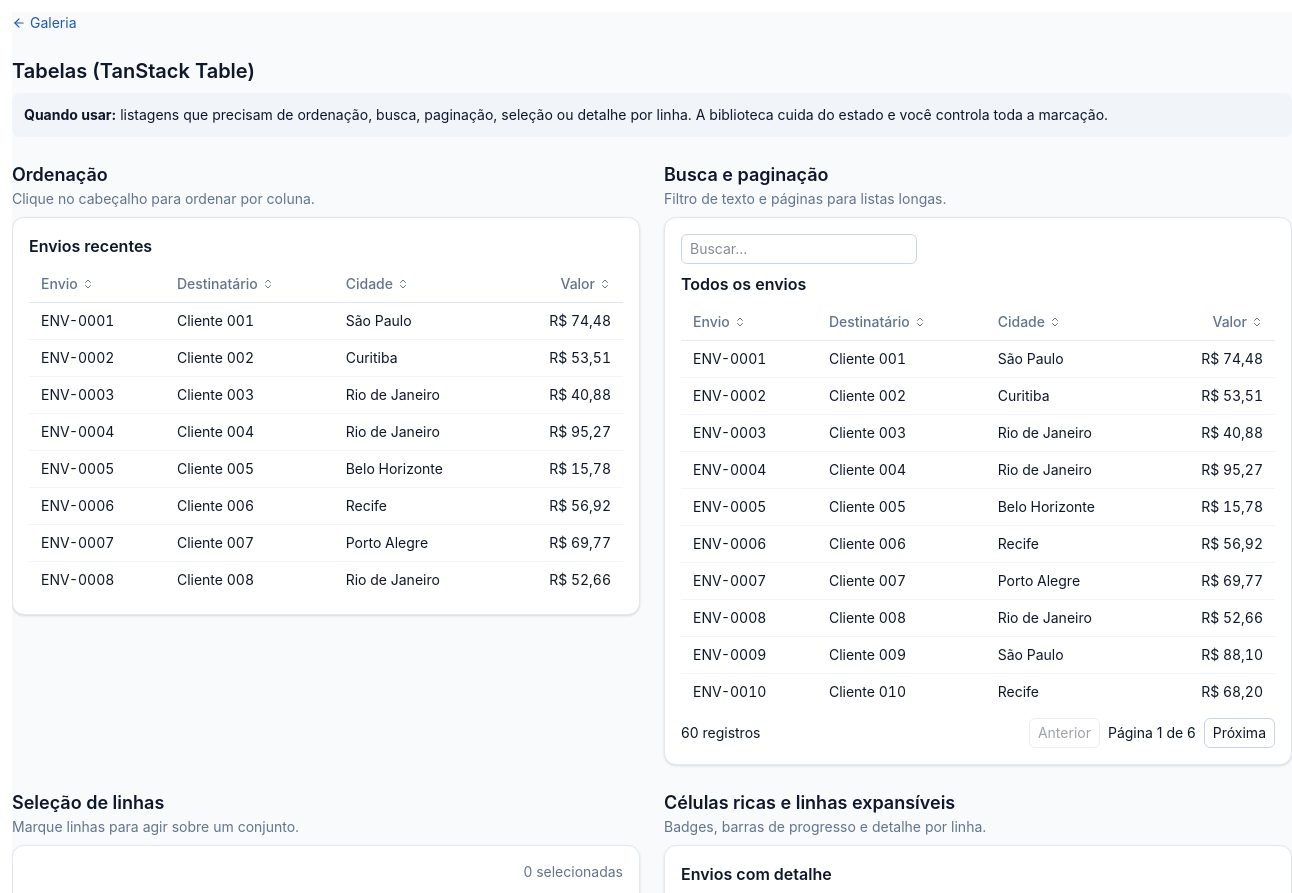
TablesPage › searches and paginates the full list
This screenshot has width=1292, height=893.
Type "ENV-0007" into the search field labelled "Buscar" at (799, 249), box [681, 234, 917, 264]
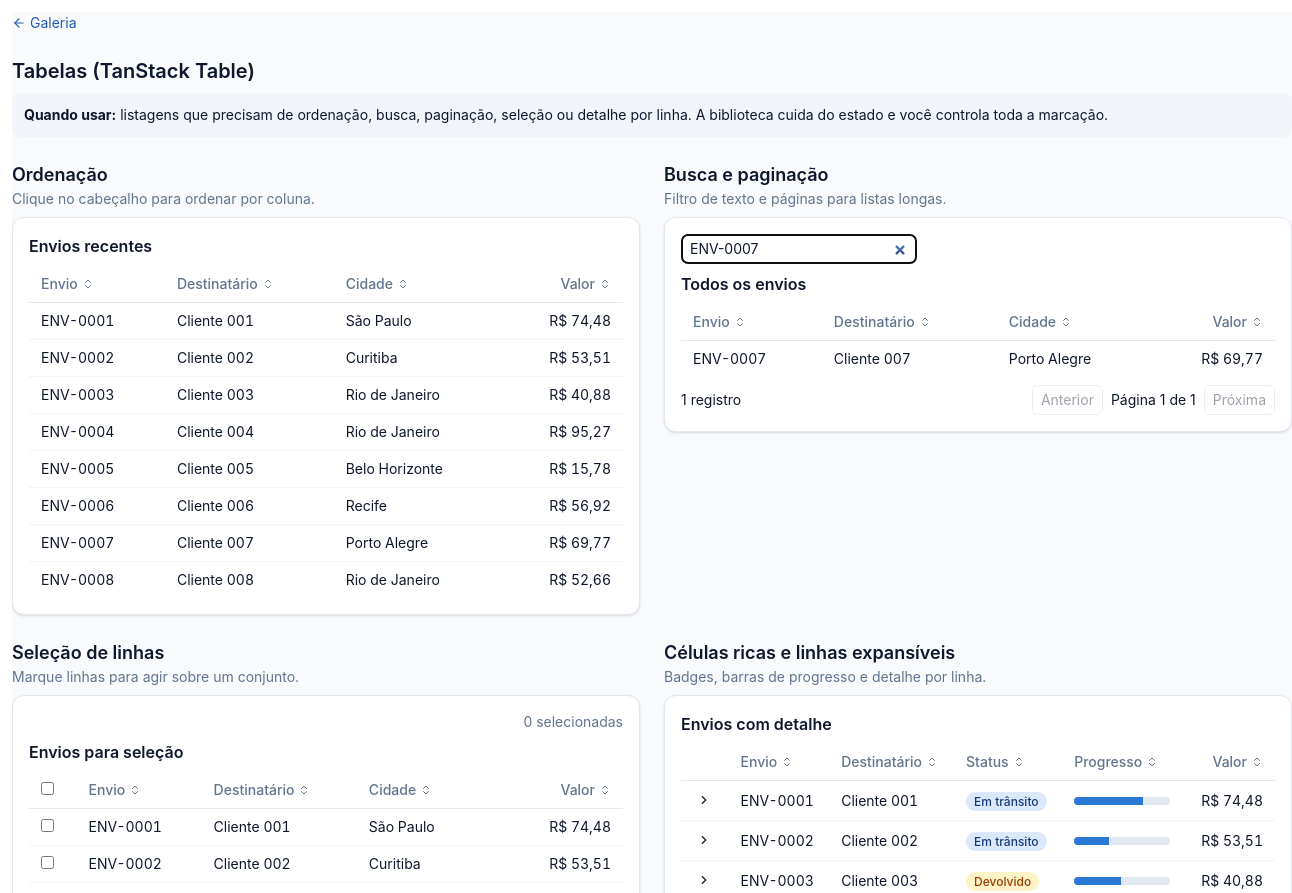
Check: the text "1 registro" is shown, box [681, 390, 741, 410]
